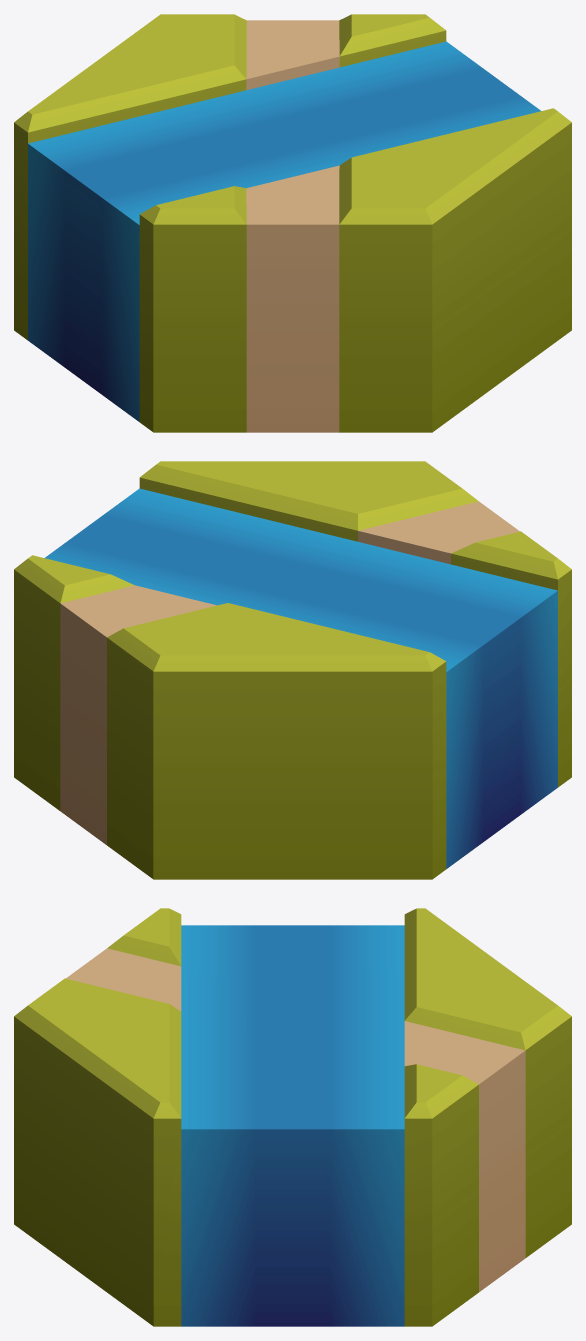
File: kaykit-medieval-hexagon-pack-hex-river-crossing-b.glb
3 views of the same model, one above another, from view 1: azimuth 30°, elevation 25°; view 2: azimuth 150°, elevation 25°; view 3: azimuth 270°, elevation 25° (orthographic).
Parts seen in each view (by area): view 1: hex_river_crossing_B; view 2: hex_river_crossing_B; view 3: hex_river_crossing_B.
Part boxes in pixels (x1,y1,x2,y2): hex_river_crossing_B: [14, 14, 571, 432]; hex_river_crossing_B: [14, 461, 571, 879]; hex_river_crossing_B: [14, 908, 571, 1326].
Size of the model in its own units: 2 by 1 by 2.31.
Materials: 1 (1 with a texture image).
